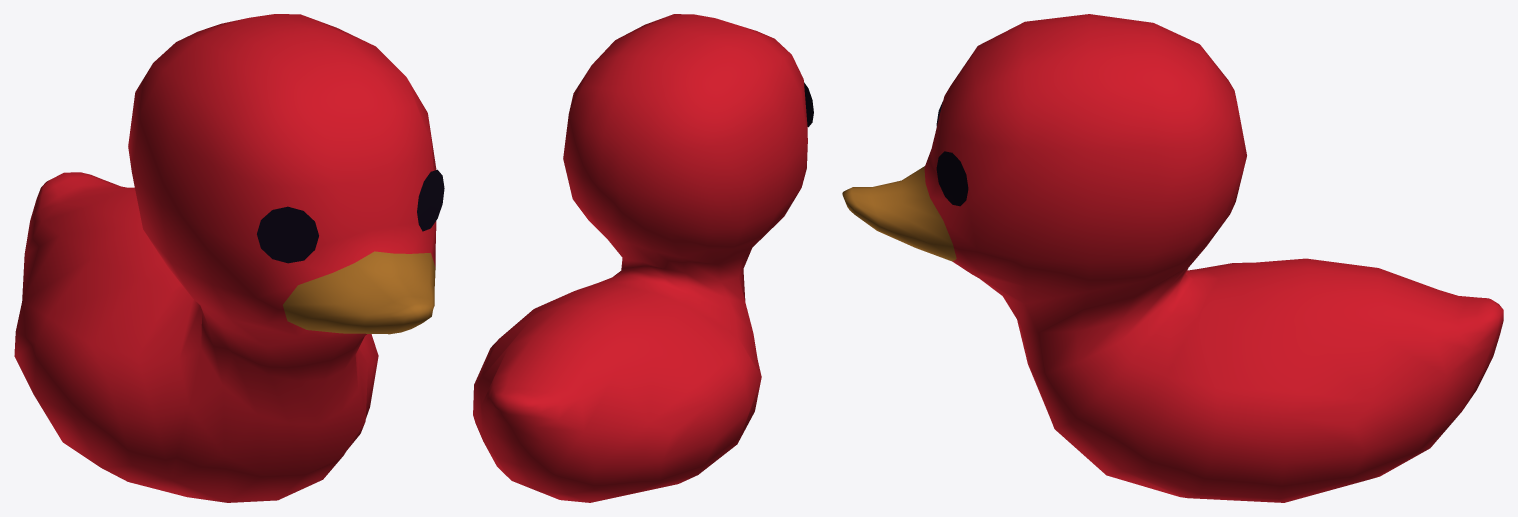
Rendered from Duck_Red.fbx.
The picture shows the model from 3 angles, left to right: view 1: azimuth 30°, elevation 25°; view 2: azimuth 150°, elevation 25°; view 3: azimuth 270°, elevation 25°; orthographic projection. The views are drawn at different scales.
Visible parts, largest first — view 1: Duck_Red; view 2: Duck_Red; view 3: Duck_Red.
Boxes of the visible parts, x1,y1,x2,y2 form: Duck_Red: [14, 14, 444, 502]; Duck_Red: [473, 14, 813, 502]; Duck_Red: [842, 14, 1503, 502].
Size of the model in its own units: 76.94 by 124 by 165.
